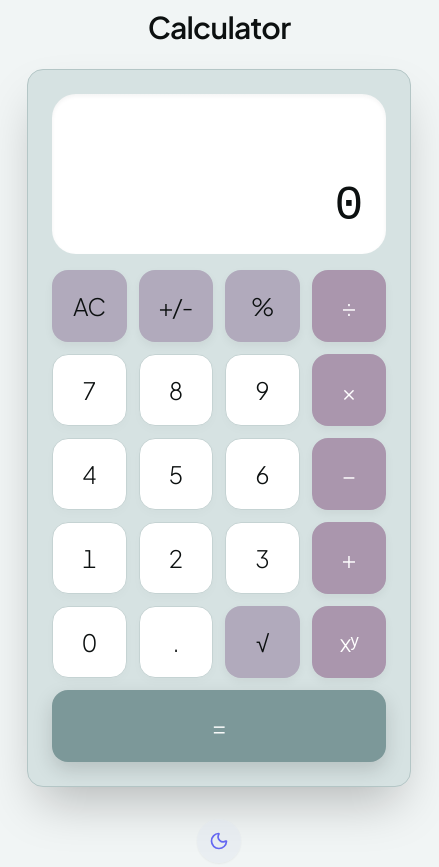
Test: App Integration › handles server error feedback and recovery
Click the button "5" at (176, 474), box [138,438,213,510]
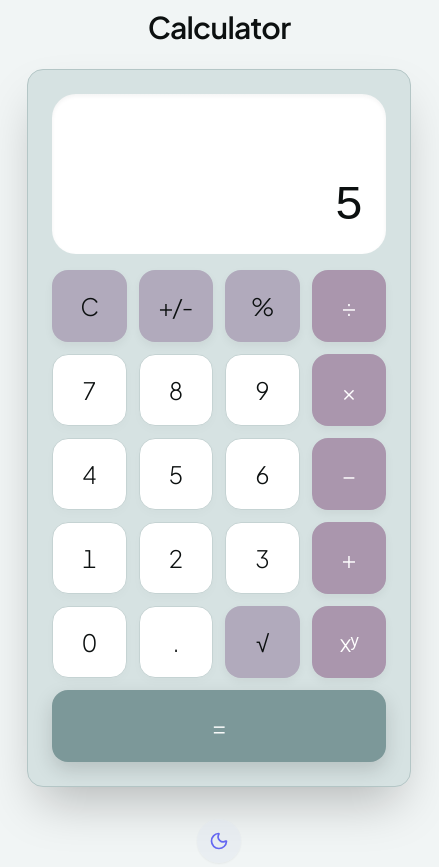
Click the button "÷" at (349, 306), box [312,270,386,342]
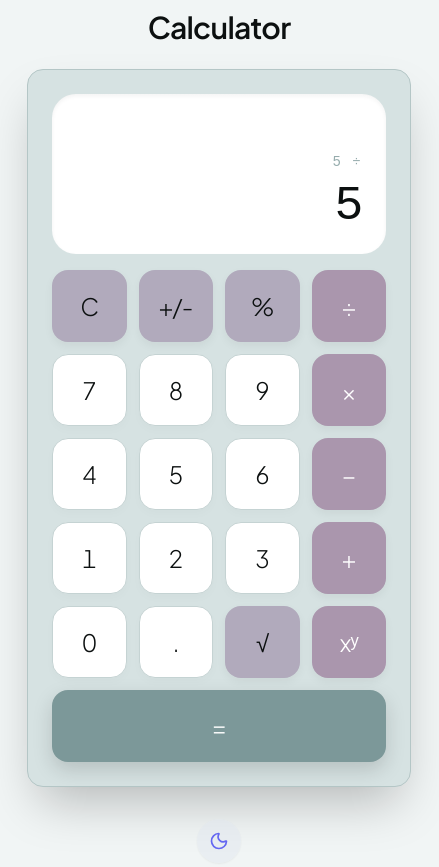
Click the button "0" at (89, 642), box [52,606,126,678]
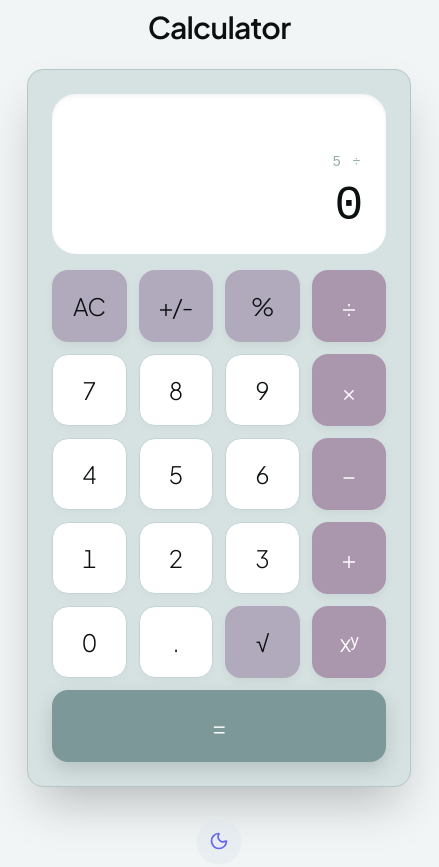
Click the button "=" at (219, 726), box [52,690,386,762]
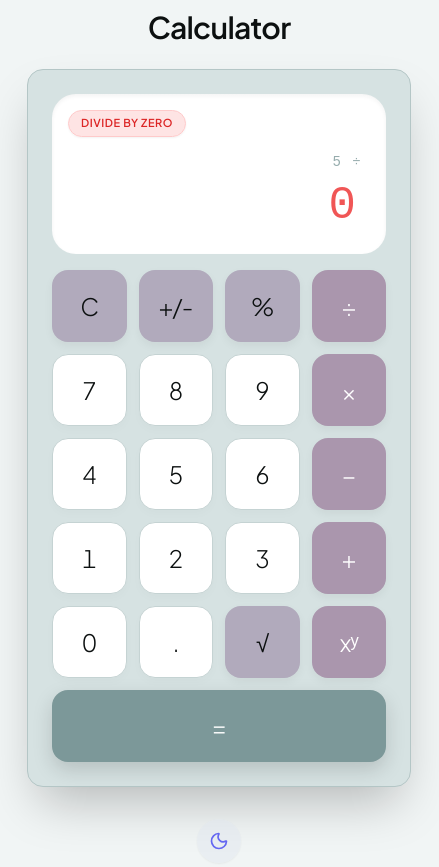
Check: the text "DIVIDE BY ZERO" is shown, box [68,110,186,136]
// Recovery test: click C (since error is present, isClearPending is true)
Click the button "C" at (89, 306), box [52,270,126,342]
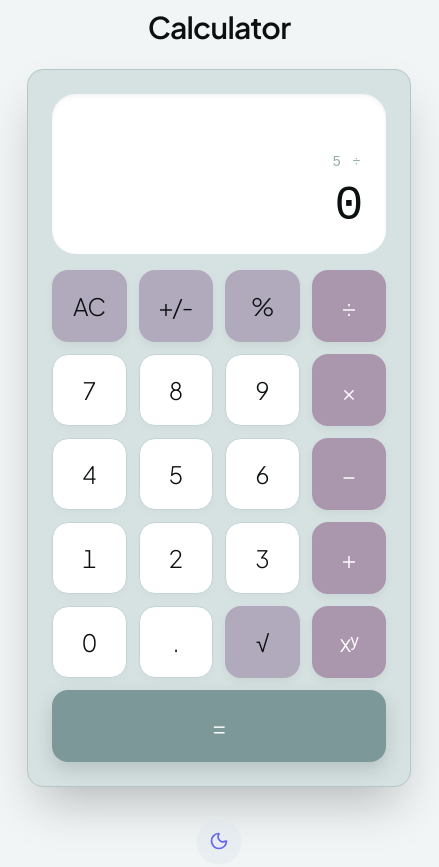
Check: the text "0" is shown, box [334,179,362,233]
Check: the text "DIVIDE BY ZERO" is gone
